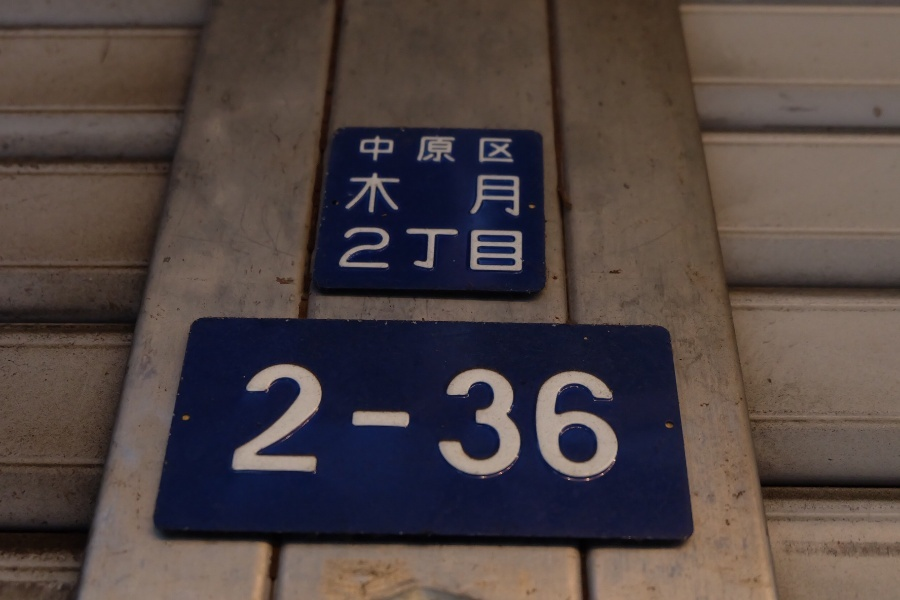text: (257, 367, 272, 480), (273, 367, 288, 480), (289, 367, 304, 480), (305, 367, 320, 480), (321, 367, 336, 480), (337, 367, 352, 480), (353, 367, 368, 480), (369, 367, 384, 480), (385, 367, 400, 480), (401, 367, 416, 480), (417, 367, 432, 480), (433, 367, 448, 480), (449, 367, 464, 480), (465, 367, 480, 480), (481, 367, 496, 480), (497, 367, 512, 480), (513, 367, 528, 480), (529, 367, 544, 480), (545, 367, 560, 480), (561, 367, 576, 480), (577, 367, 592, 480), (593, 367, 608, 480), (609, 367, 623, 480), (246, 367, 256, 480), (353, 227, 368, 275), (369, 227, 384, 275), (385, 227, 400, 275), (401, 227, 416, 275), (417, 227, 432, 275), (433, 227, 448, 275), (449, 227, 464, 275), (465, 227, 480, 275), (481, 227, 496, 275), (497, 227, 512, 275), (353, 171, 368, 218), (369, 171, 384, 218), (385, 171, 400, 218), (401, 171, 416, 218), (417, 171, 432, 218), (433, 171, 448, 218), (449, 171, 464, 218), (465, 171, 480, 218), (481, 171, 496, 218), (497, 171, 512, 218), (513, 227, 524, 275), (369, 135, 384, 166), (385, 135, 400, 166), (401, 135, 416, 166), (417, 135, 432, 166), (433, 135, 448, 166), (449, 135, 464, 166), (465, 135, 480, 166), (481, 135, 496, 166), (497, 135, 512, 166), (513, 171, 521, 218), (358, 135, 368, 166), (348, 227, 352, 275), (348, 171, 352, 218), (513, 135, 518, 166)
